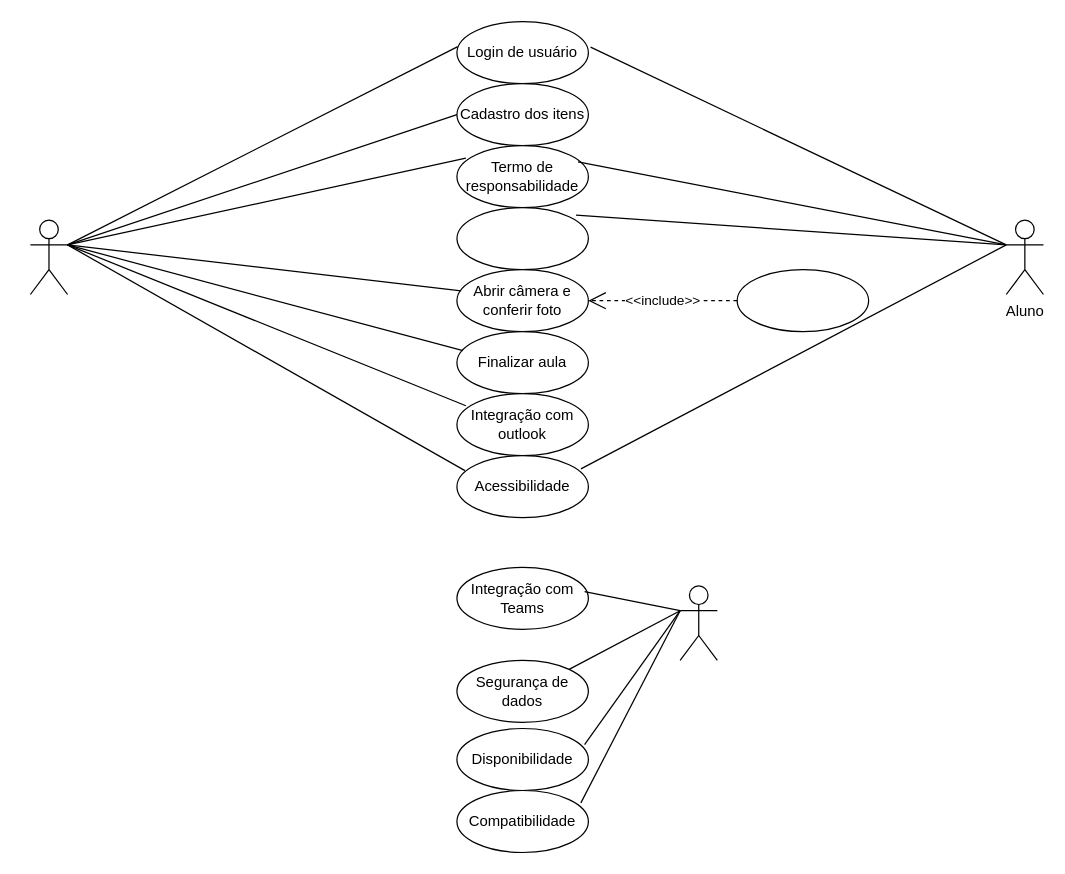
Image size: 1065x874. Some labels were removed from this diagram. Here are the shapes that lost their labels. From the top down, the box of each, then its label:
(29, 219, 68, 294): Docente
(456, 206, 588, 270): Identificação do kit recebido
(736, 268, 869, 332): Integração com IA
(679, 585, 717, 660): Sistema
